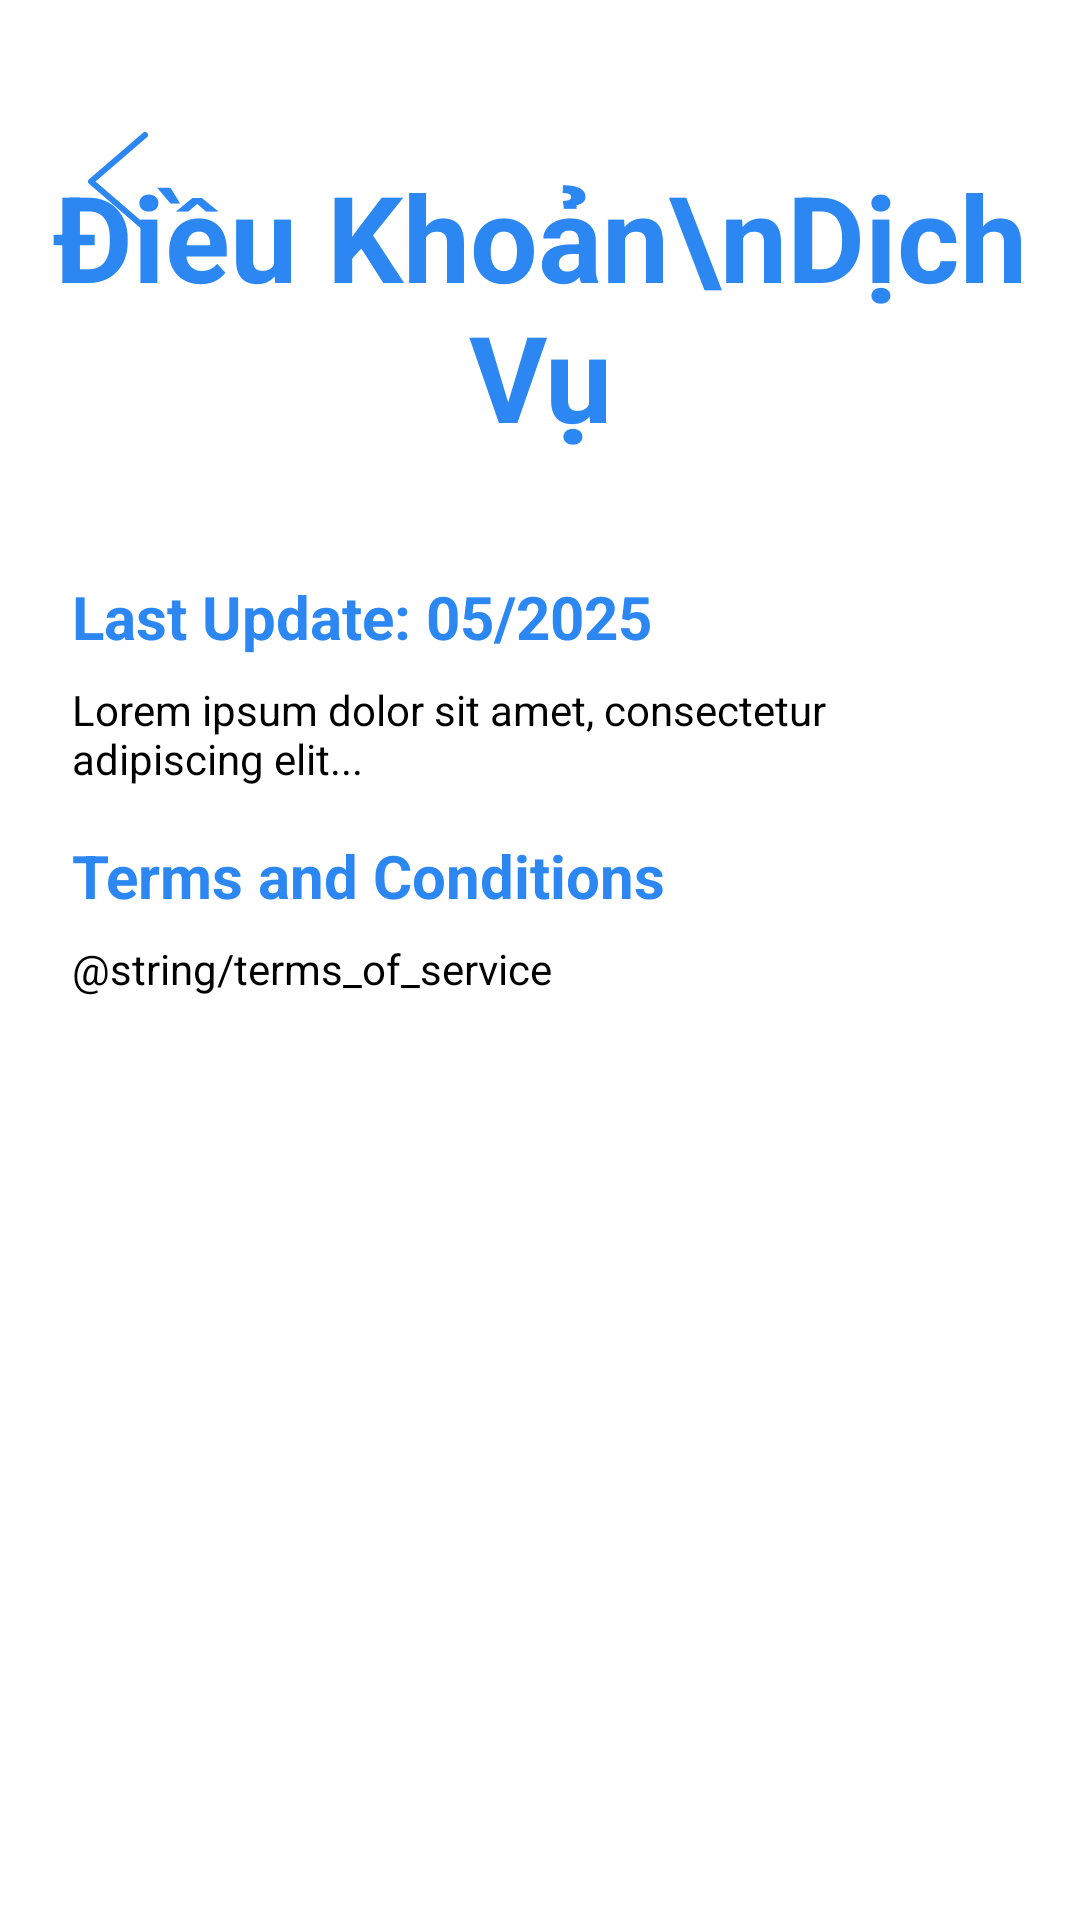

Named icons in this screenshot (1080px×1920px) and their centers, [x,y]:
Quay lại: [118,181]
